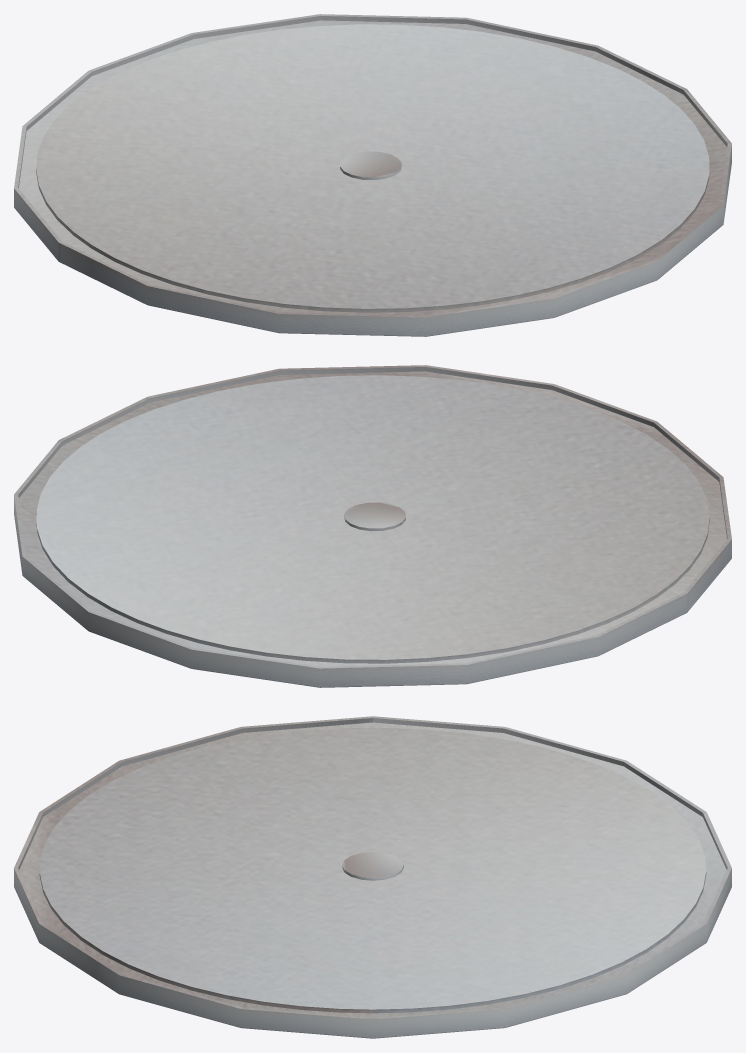
File: ndg-019d3e66-c8d0-7fd2-b5a8-fca1af183e43.source.glb
3 views of the same model, one above another, from view 1: azimuth 30°, elevation 25°; view 2: azimuth 150°, elevation 25°; view 3: azimuth 270°, elevation 25° (orthographic).
Visible parts, largest first — view 1: table; view 2: table; view 3: table.
Part boxes in pixels (x1,y1,x2,y2): table: [14, 14, 731, 336]; table: [14, 365, 731, 687]; table: [14, 716, 731, 1038].
Bounding box in the file's own units: 1.7 × 0.2453 × 1.7.
1 material, 1 textured.
